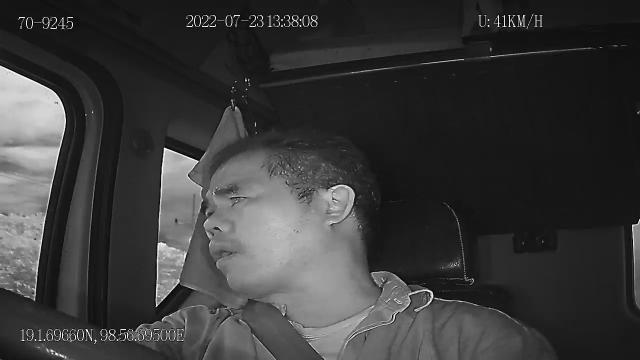Seatbelt: (242, 296, 326, 360)
